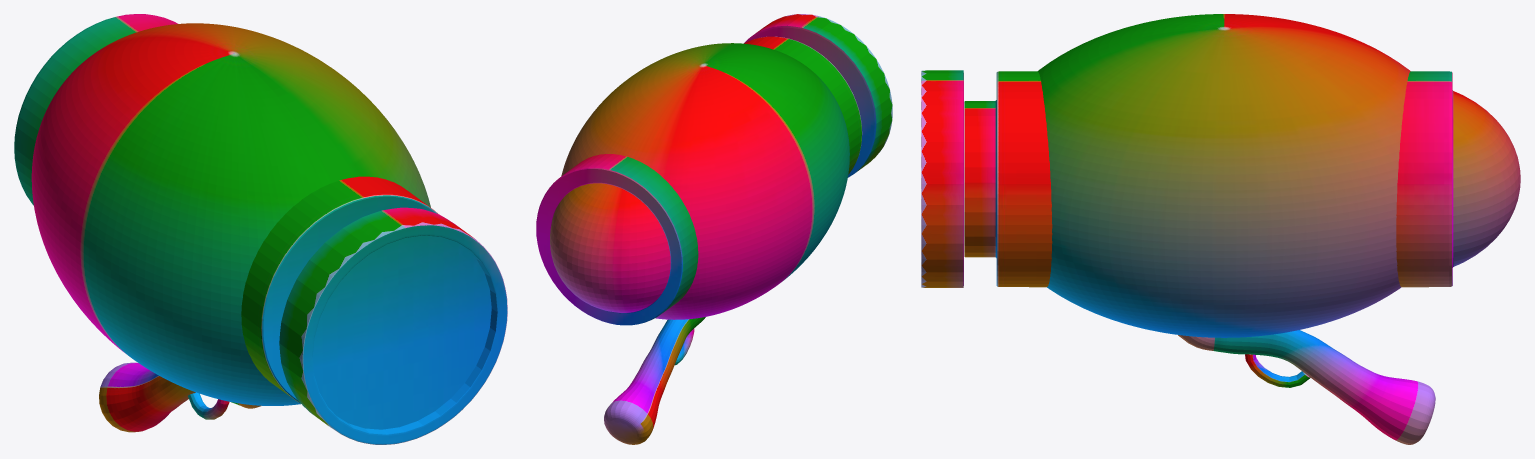
The model's file is TidyPodLauncher.fbx.
3 views of the same model, side by side, from view 1: azimuth 30°, elevation 25°; view 2: azimuth 150°, elevation 25°; view 3: azimuth 270°, elevation 25° (orthographic). The views are drawn at different scales.
Parts seen in each view (by area): view 1: tide pod gun; view 2: tide pod gun; view 3: tide pod gun.
Boxes of the visible parts, x1,y1,x2,y2 form: tide pod gun: [14, 14, 507, 444]; tide pod gun: [536, 14, 892, 444]; tide pod gun: [921, 14, 1520, 444].
Bounding box in the file's own units: 197 × 279 × 367.
1 material, 1 textured.
